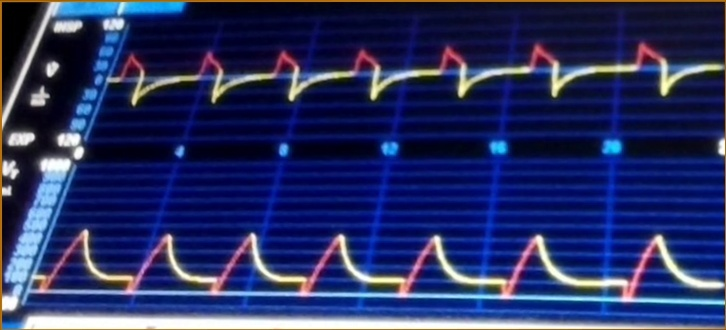Flow: (117, 28, 723, 130)
Leakage Volume: (54, 203, 720, 312)
